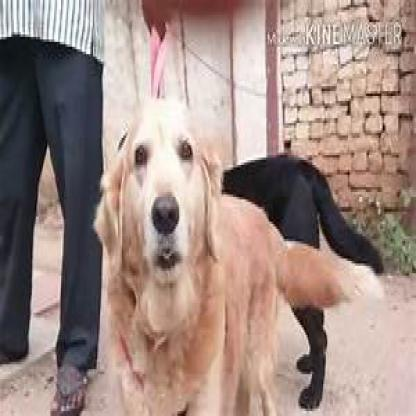dog: (94, 96, 384, 414)
